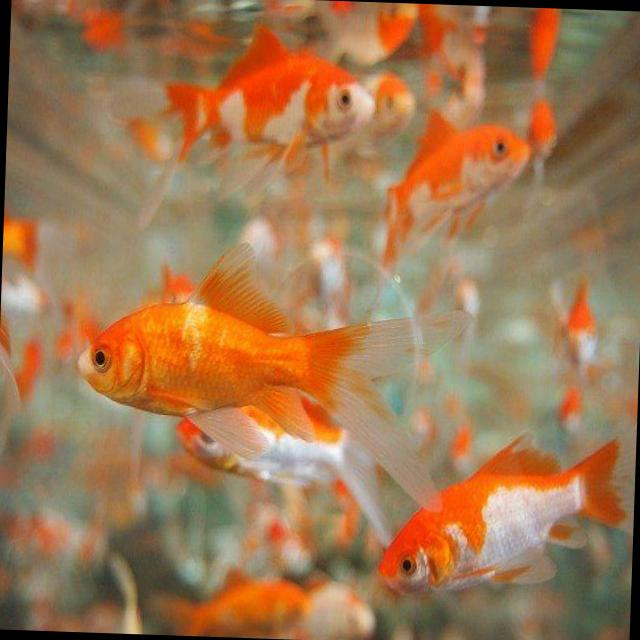GoldFish: (64, 228, 478, 516), (379, 421, 633, 616), (154, 17, 376, 190), (379, 103, 531, 284)
